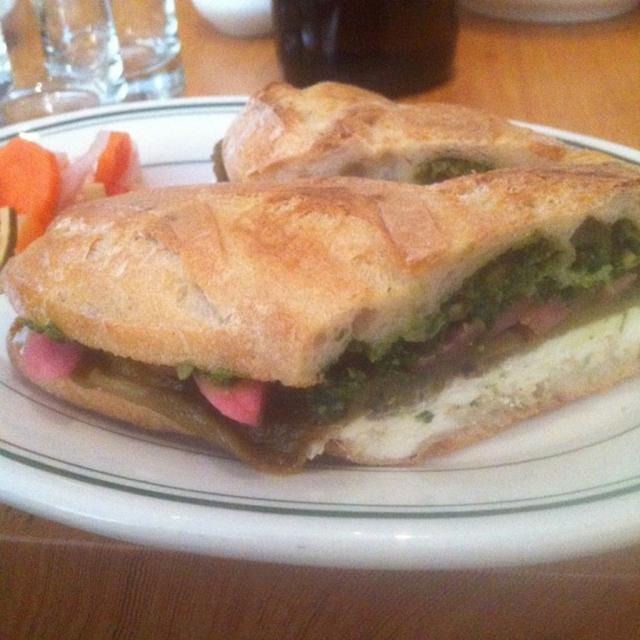Sandwich: (0, 163, 639, 479), (217, 77, 580, 185)
